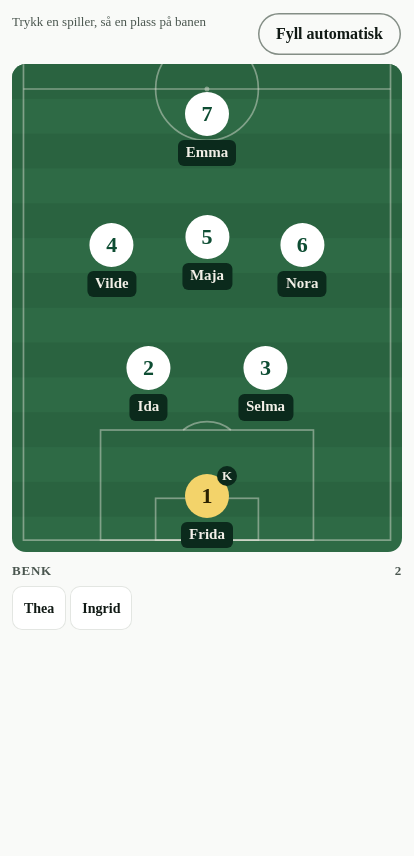
Test: PitchLineupEditor copy and bench (UI-PITCH-02) › marks the selected bench tile as pressed and says what to tap next
Click the button "Thea". click: (39, 608)
box: [12, 586, 66, 630]
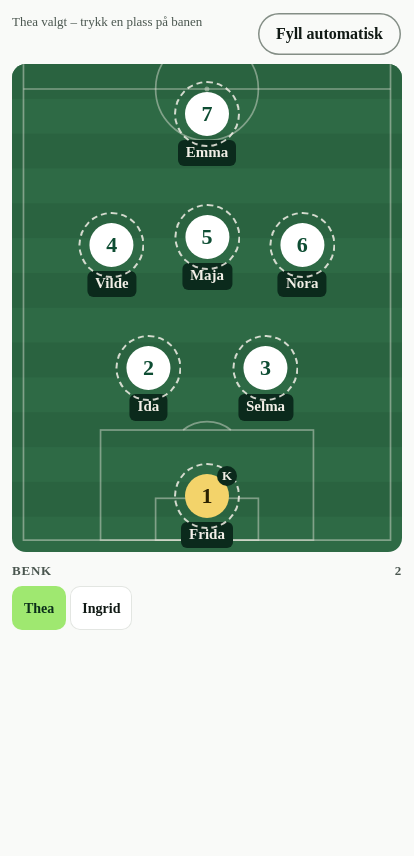
Expected: the text "Thea valgt – trykk en plass på banen" is shown, [12, 14, 202, 29]
Click the button "Thea". click: (39, 608)
box: [12, 586, 66, 630]
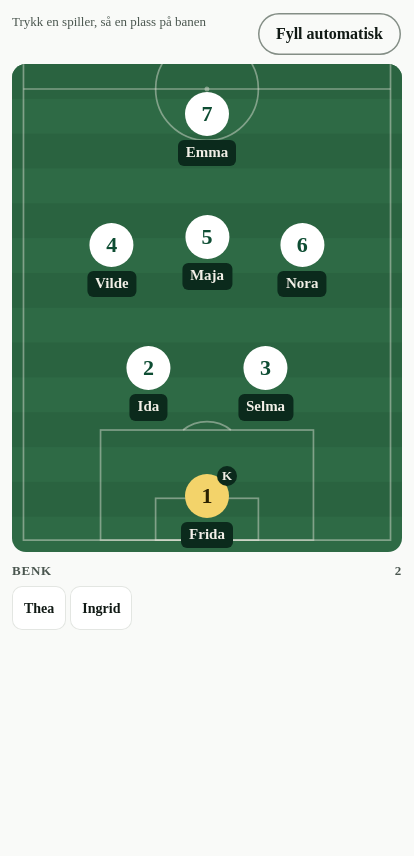
Expected: the text "Trykk en spiller, så en plass på banen" is shown, [11, 13, 206, 29]
